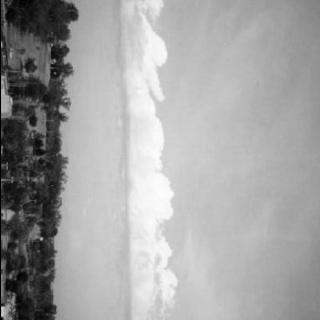Cirrostratus: (109, 0, 204, 320)
